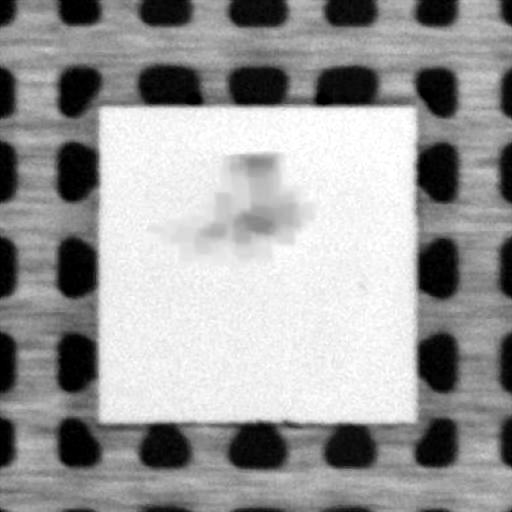DIE_INK: (206, 146, 305, 267)
